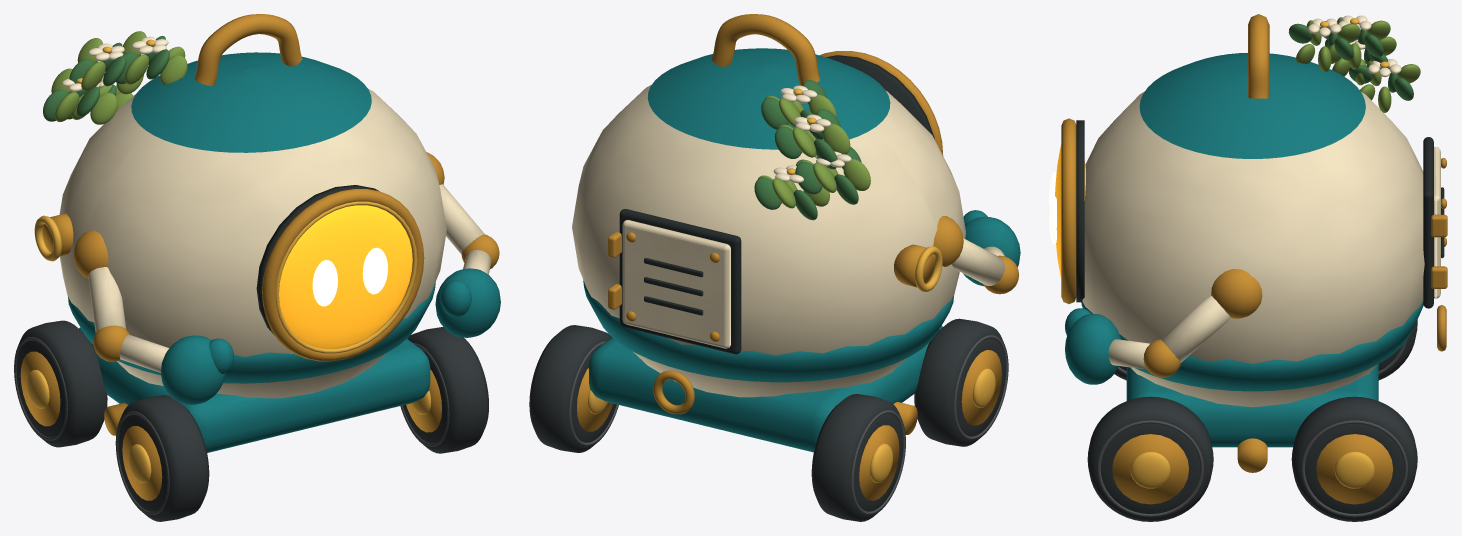
3 renders of one model, left to right at view 1: azimuth 30°, elevation 25°; view 2: azimuth 150°, elevation 25°; view 3: azimuth 270°, elevation 25°, orthographic.
Parts seen in each view (by area): view 1: body__robot_cream, body__robot_teal, head__robot_amber, wheel_fl, wheel_bl, wheel_fr, head__robot_brass, body__robot_brass, plants__robot_leaf_light, right_arm__robot_teal, left_arm__robot_teal, right_arm__robot_cream (+12 smaller); view 2: body__robot_cream, body__robot_teal, wheel_bl, wheel_fl, wheel_br, body__robot_brass, body__robot_ink, plants__robot_leaf, plants__robot_leaf_light, right_arm__robot_teal, right_arm__robot_brass, wheel_bl_hub (+7 smaller); view 3: body__robot_cream, body__robot_teal, wheel_fr, wheel_br, body__robot_brass, plants__robot_leaf_light, left_arm__robot_teal, wheel_fr_hub, wheel_br_hub, left_arm__robot_cream, head__robot_brass, left_arm__robot_brass (+7 smaller).
Part boxes in pixels (x1,y1,x2,y2): body__robot_cream: (59, 88, 446, 398); body__robot_teal: (68, 52, 435, 452); head__robot_amber: (279, 205, 412, 348); wheel_fl: (115, 395, 209, 521); wheel_bl: (14, 320, 107, 447); wheel_fr: (400, 327, 488, 453); head__robot_brass: (262, 189, 424, 361); body__robot_brass: (42, 14, 302, 435); plants__robot_leaf_light: (51, 31, 187, 124); right_arm__robot_teal: (160, 335, 234, 404); left_arm__robot_teal: (435, 268, 500, 337); right_arm__robot_cream: (88, 267, 169, 372); body__robot_cream: (572, 85, 965, 397); body__robot_teal: (583, 48, 953, 452); wheel_bl: (811, 394, 905, 521); wheel_fl: (914, 318, 1008, 446); wheel_br: (529, 325, 618, 452); body__robot_brass: (608, 14, 934, 434); body__robot_ink: (619, 209, 741, 354); plants__robot_leaf: (754, 80, 861, 220); plants__robot_leaf_light: (758, 94, 870, 208); right_arm__robot_teal: (963, 210, 1020, 286); right_arm__robot_brass: (933, 216, 1018, 294); wheel_bl_hub: (859, 425, 899, 500); body__robot_cream: (1082, 91, 1440, 407); body__robot_teal: (1081, 53, 1423, 447); wheel_fr: (1087, 396, 1213, 521); wheel_br: (1291, 396, 1417, 521); body__robot_brass: (1237, 14, 1447, 472); plants__robot_leaf_light: (1295, 17, 1420, 112); left_arm__robot_teal: (1065, 308, 1120, 384); wheel_fr_hub: (1112, 434, 1188, 504); wheel_br_hub: (1316, 434, 1393, 504); left_arm__robot_cream: (1108, 296, 1230, 369); head__robot_brass: (1061, 118, 1076, 303); left_arm__robot_brass: (1143, 269, 1262, 377).
Bounding box in the file's own units: 0.774 × 0.7859 × 0.664.
Materials: 12 (2 with a texture image).
